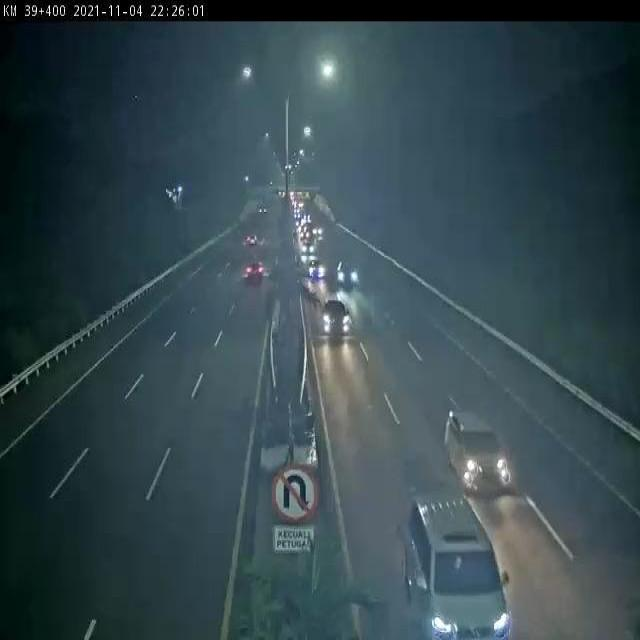car: (402, 473, 504, 640), (441, 393, 517, 495), (321, 303, 356, 345), (339, 260, 362, 293), (311, 264, 331, 292), (246, 256, 268, 281)
